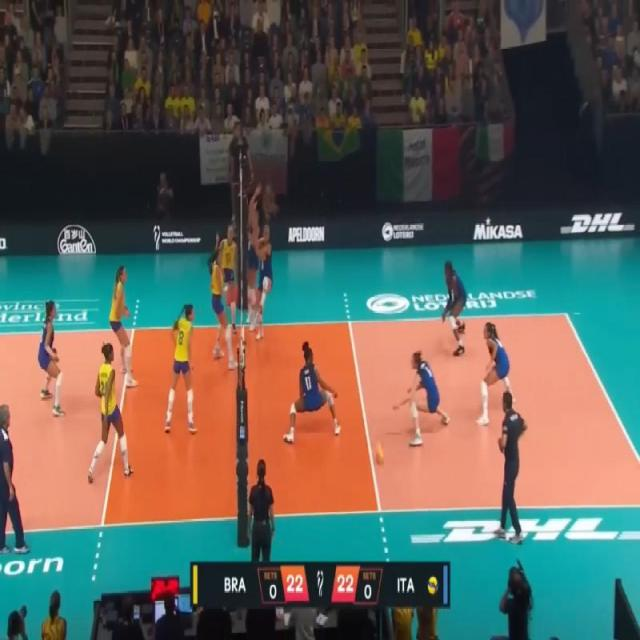volleyball: (375, 442, 385, 468)
